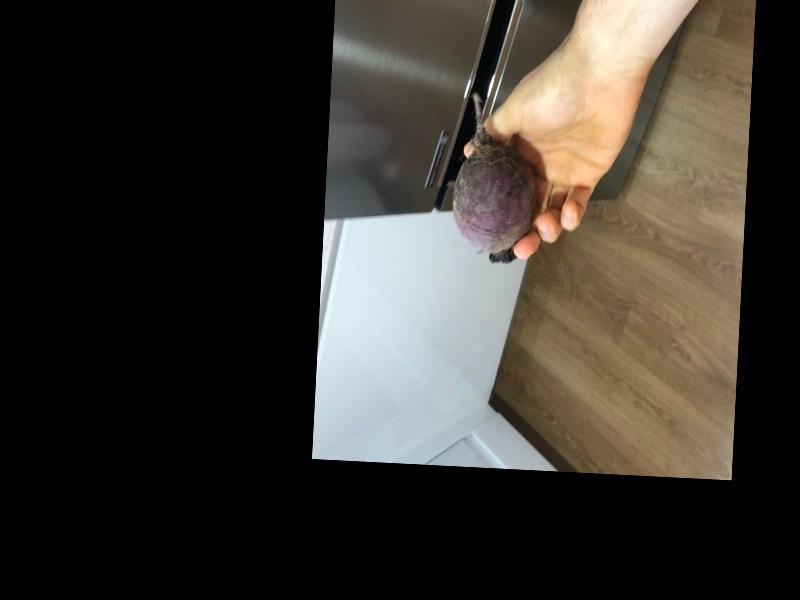Beet: (451, 94, 539, 266)
